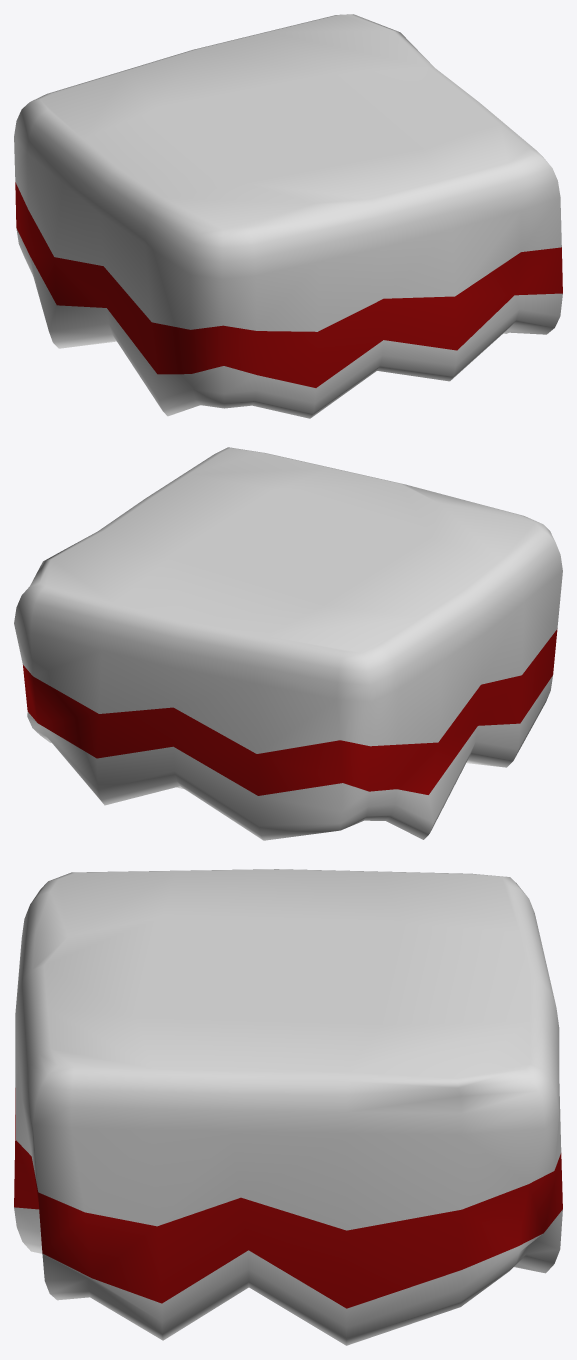
Rendered from terrain_03_grass.fbx.
The picture shows the model from 3 angles, top to bottom: view 1: azimuth 30°, elevation 25°; view 2: azimuth 150°, elevation 25°; view 3: azimuth 270°, elevation 25°; orthographic projection. The views are drawn at different scales.
Parts seen in each view (by area): view 1: Box011; view 2: Box011; view 3: Box011.
Boxes of the visible parts, <box> form: Box011: <box>14,14,562,418</box>; Box011: <box>14,447,562,840</box>; Box011: <box>14,869,562,1345</box>.
Bounding box in the file's own units: 218 × 120 × 221.
